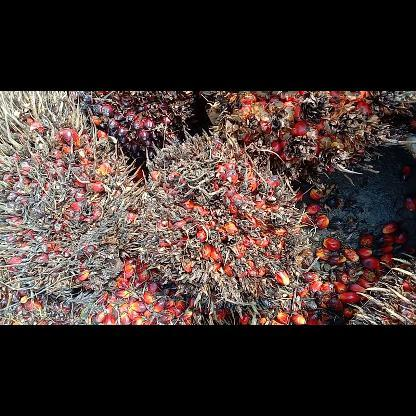Terlalu masak: (127, 128, 325, 324), (0, 91, 144, 299), (197, 91, 415, 183), (69, 91, 200, 165)
